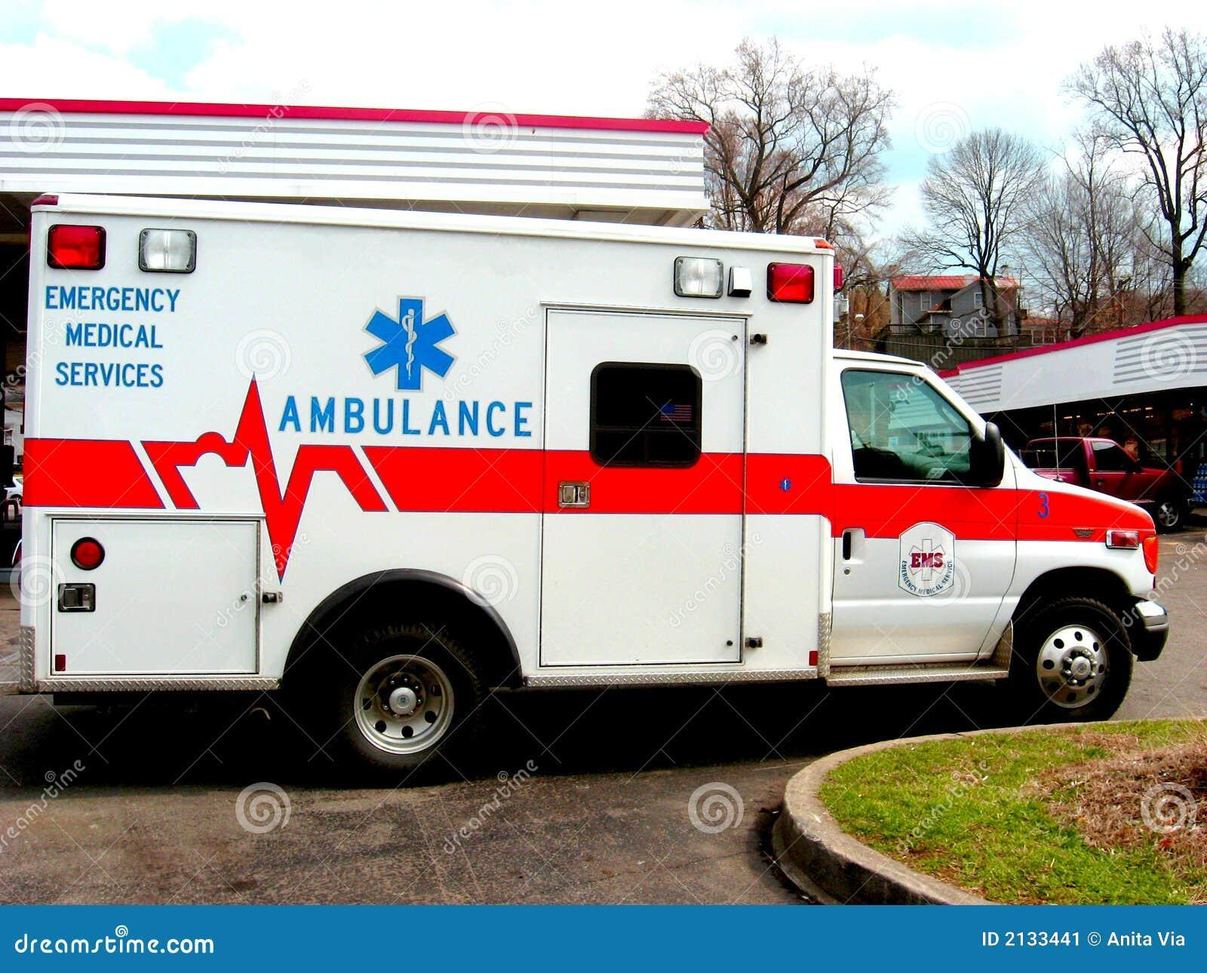Ambulance: (360, 289, 461, 395)
